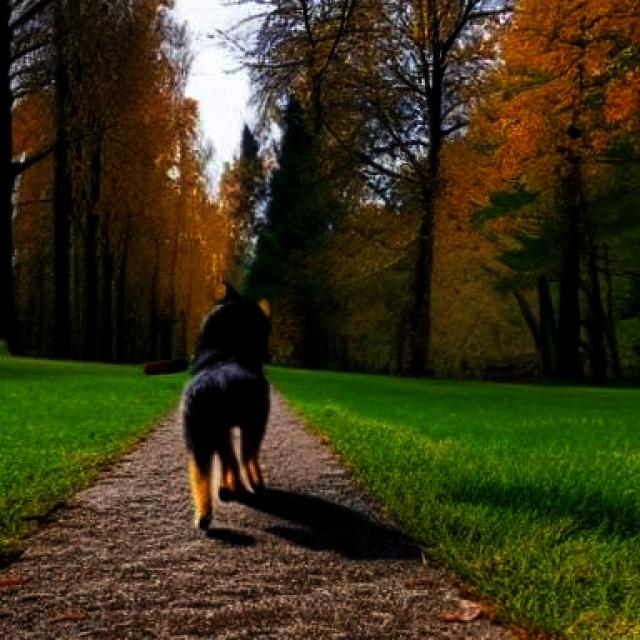Dog: (180, 283, 273, 531)
